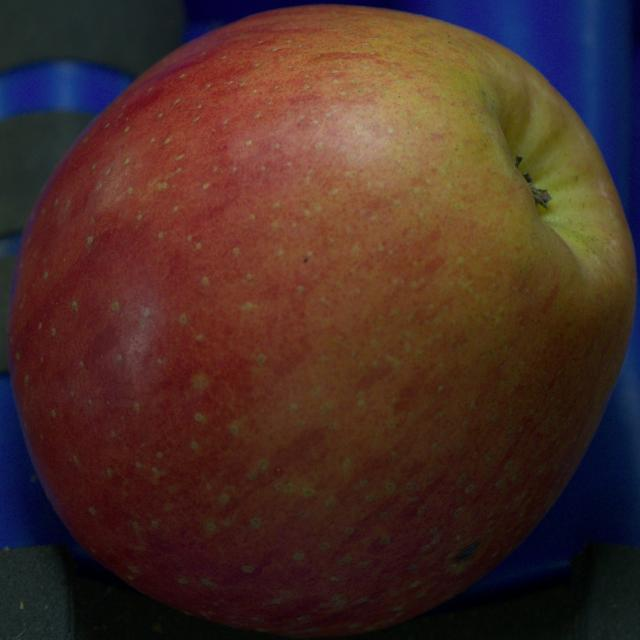apple: (7, 6, 636, 636)
pest: (457, 543, 479, 562)
